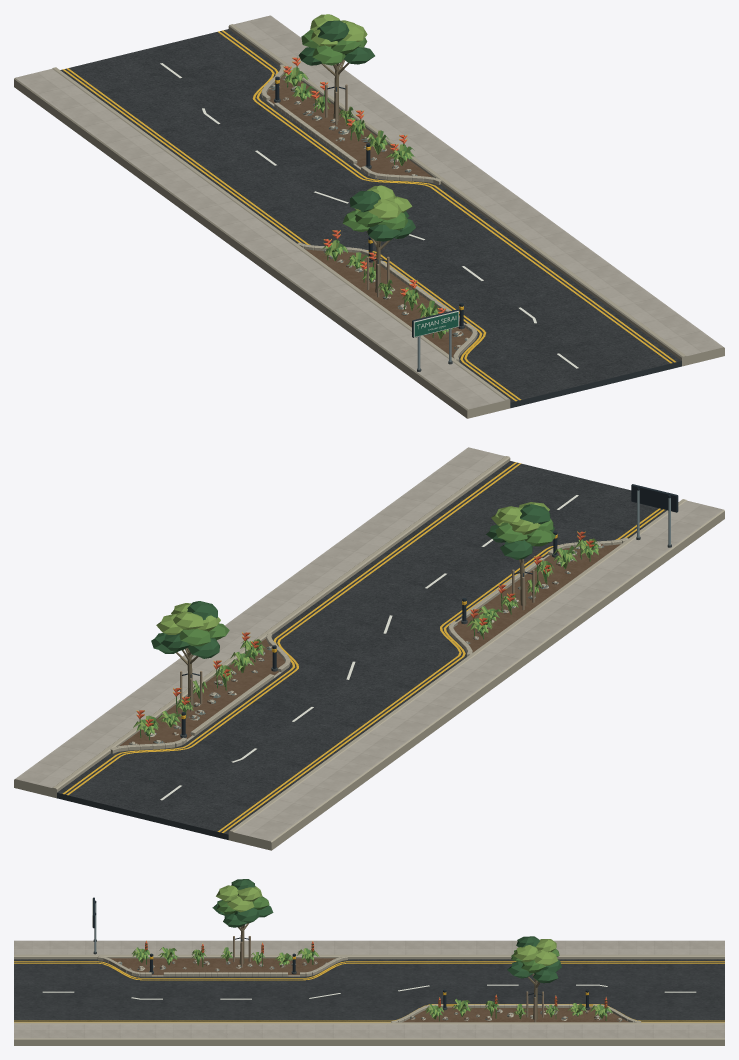
The picture shows the model from 3 angles, top to bottom: view 1: azimuth 30°, elevation 25°; view 2: azimuth 150°, elevation 25°; view 3: azimuth 270°, elevation 25°; orthographic projection. The views are drawn at different scales.
Parts seen in each view (by area): view 1: Carriageway, Kerbs and Footways, Filter bed bowls, Sapling leaf clusters, Road Markings, Pandan leaf fans, Inlet kerbstones, Wayfinding plaque, River cobbles, Lobster claw bracts; view 2: Carriageway, Kerbs and Footways, Filter bed bowls, Sapling leaf clusters, Road Markings, Pandan leaf fans, Inlet kerbstones, Wayfinding plaque, River cobbles, Lobster claw bracts; view 3: Carriageway, Kerbs and Footways, Filter bed bowls, Road Markings, Sapling leaf clusters, Pandan leaf fans, Inlet kerbstones, River cobbles, Nursery stakes, Delineator stems.
Boxes of the visible parts, box(x1,y1,x2,y2) form: Carriageway: box(60, 29, 681, 408); Kerbs and Footways: box(14, 15, 724, 418); Filter bed bowls: box(267, 70, 472, 357); Sapling leaf clusters: box(298, 14, 415, 241); Road Markings: box(62, 30, 675, 401); Pandan leaf fans: box(281, 67, 453, 338); Inlet kerbstones: box(261, 64, 477, 361); Wayfinding plaque: box(412, 309, 458, 371); River cobbles: box(269, 76, 468, 349); Lobster claw bracts: box(284, 57, 445, 313); Carriageway: box(57, 461, 666, 839); Kerbs and Footways: box(14, 447, 724, 850); Filter bed bowls: box(110, 544, 620, 752); Sapling leaf clusters: box(151, 502, 555, 658); Road Markings: box(62, 462, 664, 832); Pandan leaf fans: box(133, 538, 600, 736); Inlet kerbstones: box(110, 537, 628, 753); Wayfinding plaque: box(631, 484, 678, 547); River cobbles: box(129, 543, 603, 744); Lobster claw bracts: box(137, 531, 593, 726); Carriageway: box(14, 959, 724, 1021); Kerbs and Footways: box(14, 940, 724, 1045); Filter bed bowls: box(110, 958, 629, 1022); Road Markings: box(14, 961, 724, 1022); Sapling leaf clusters: box(212, 879, 561, 983); Pandan leaf fans: box(132, 947, 612, 1019); Inlet kerbstones: box(97, 955, 641, 1022); River cobbles: box(117, 960, 622, 1021); Nursery stakes: box(233, 936, 543, 1022); Delineator stems: box(149, 953, 589, 1010).
Bounding box in the file's own units: 10.66 × 4.25 × 32.
Materials: 22 (3 with a texture image).
